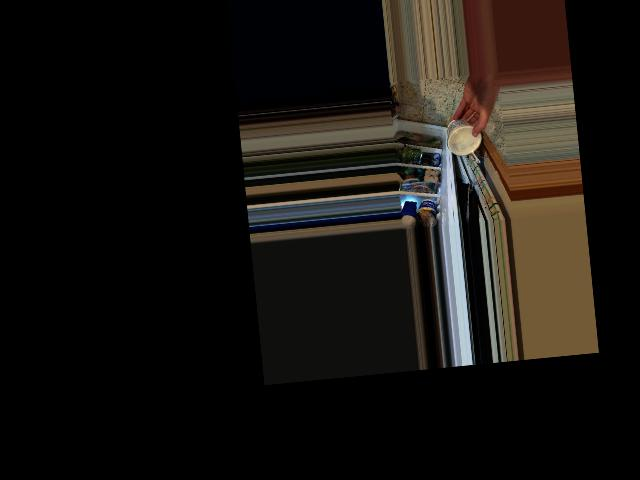cotage: (447, 117, 481, 160)
